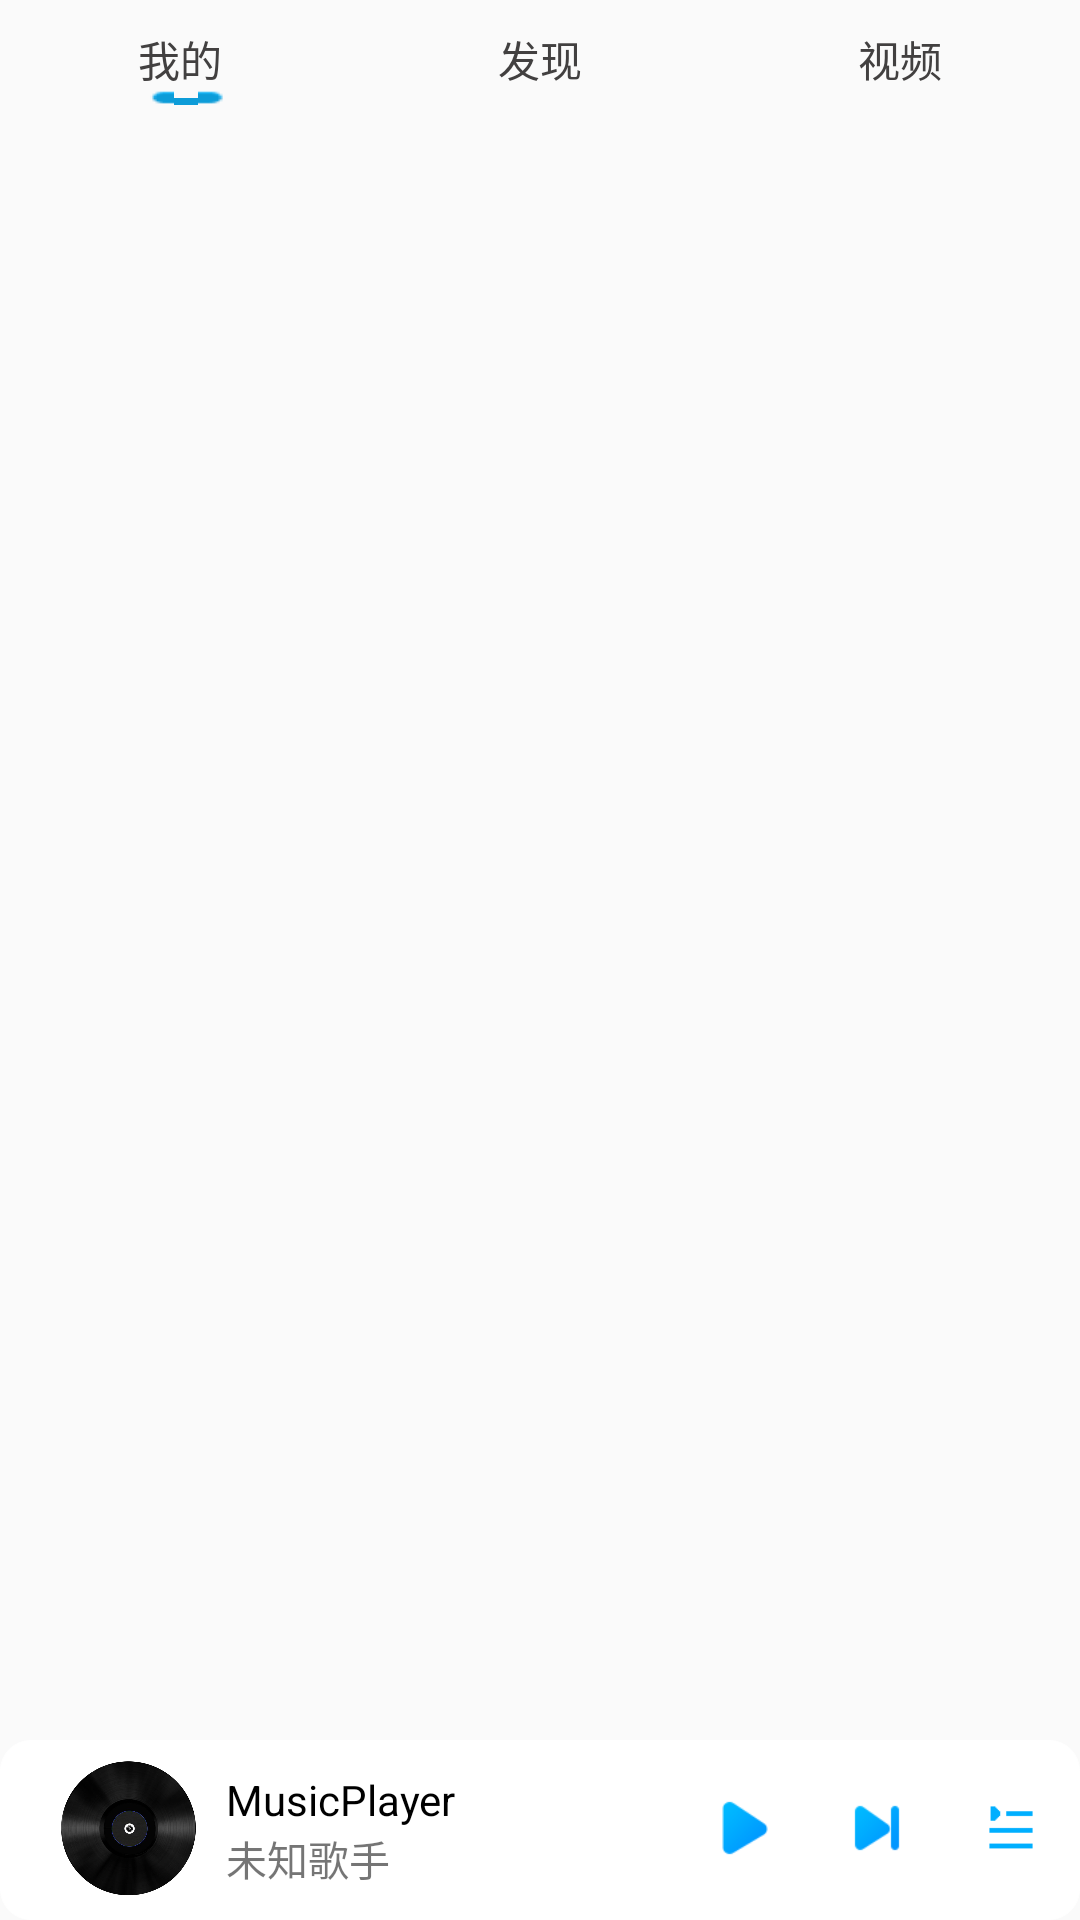

Screen size 1080*1920. Icon name, then its box in pixels as (x1,y1,x2,y2):
musiclist: (989,1806,1033,1849)
next: (854,1805,900,1851)
recode: (61,1761,196,1895)
